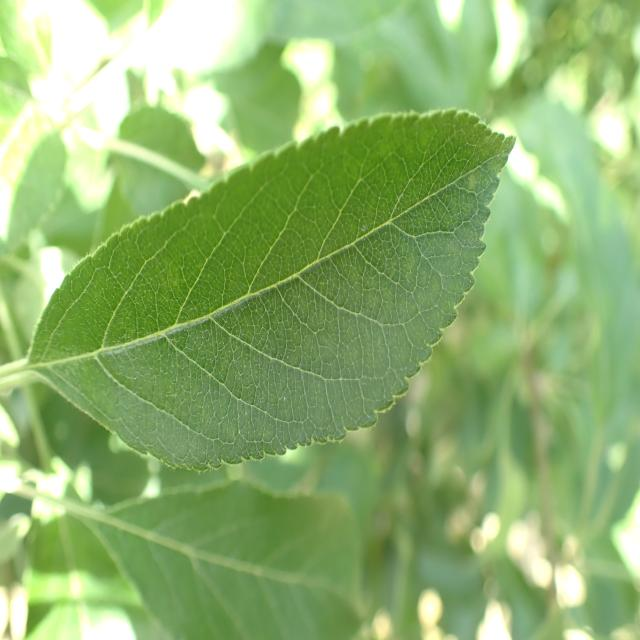healthy: (27, 108, 518, 474), (86, 480, 374, 640)
